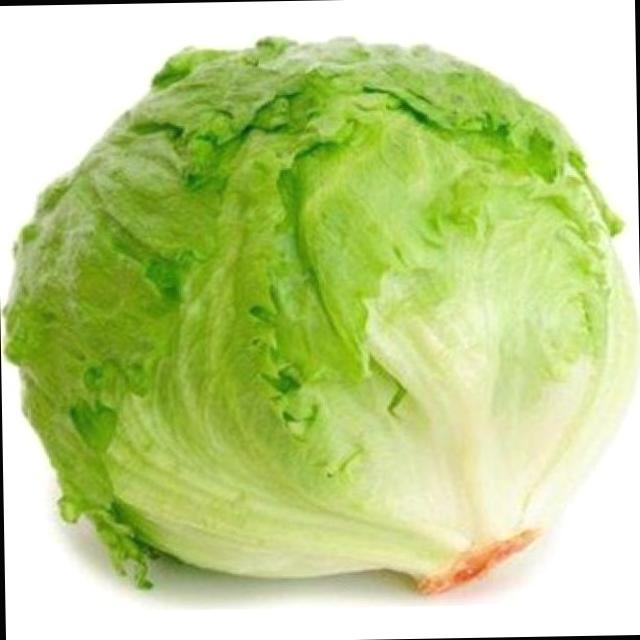Lettuce-Ready-to-Harvest: (5, 38, 634, 590)
